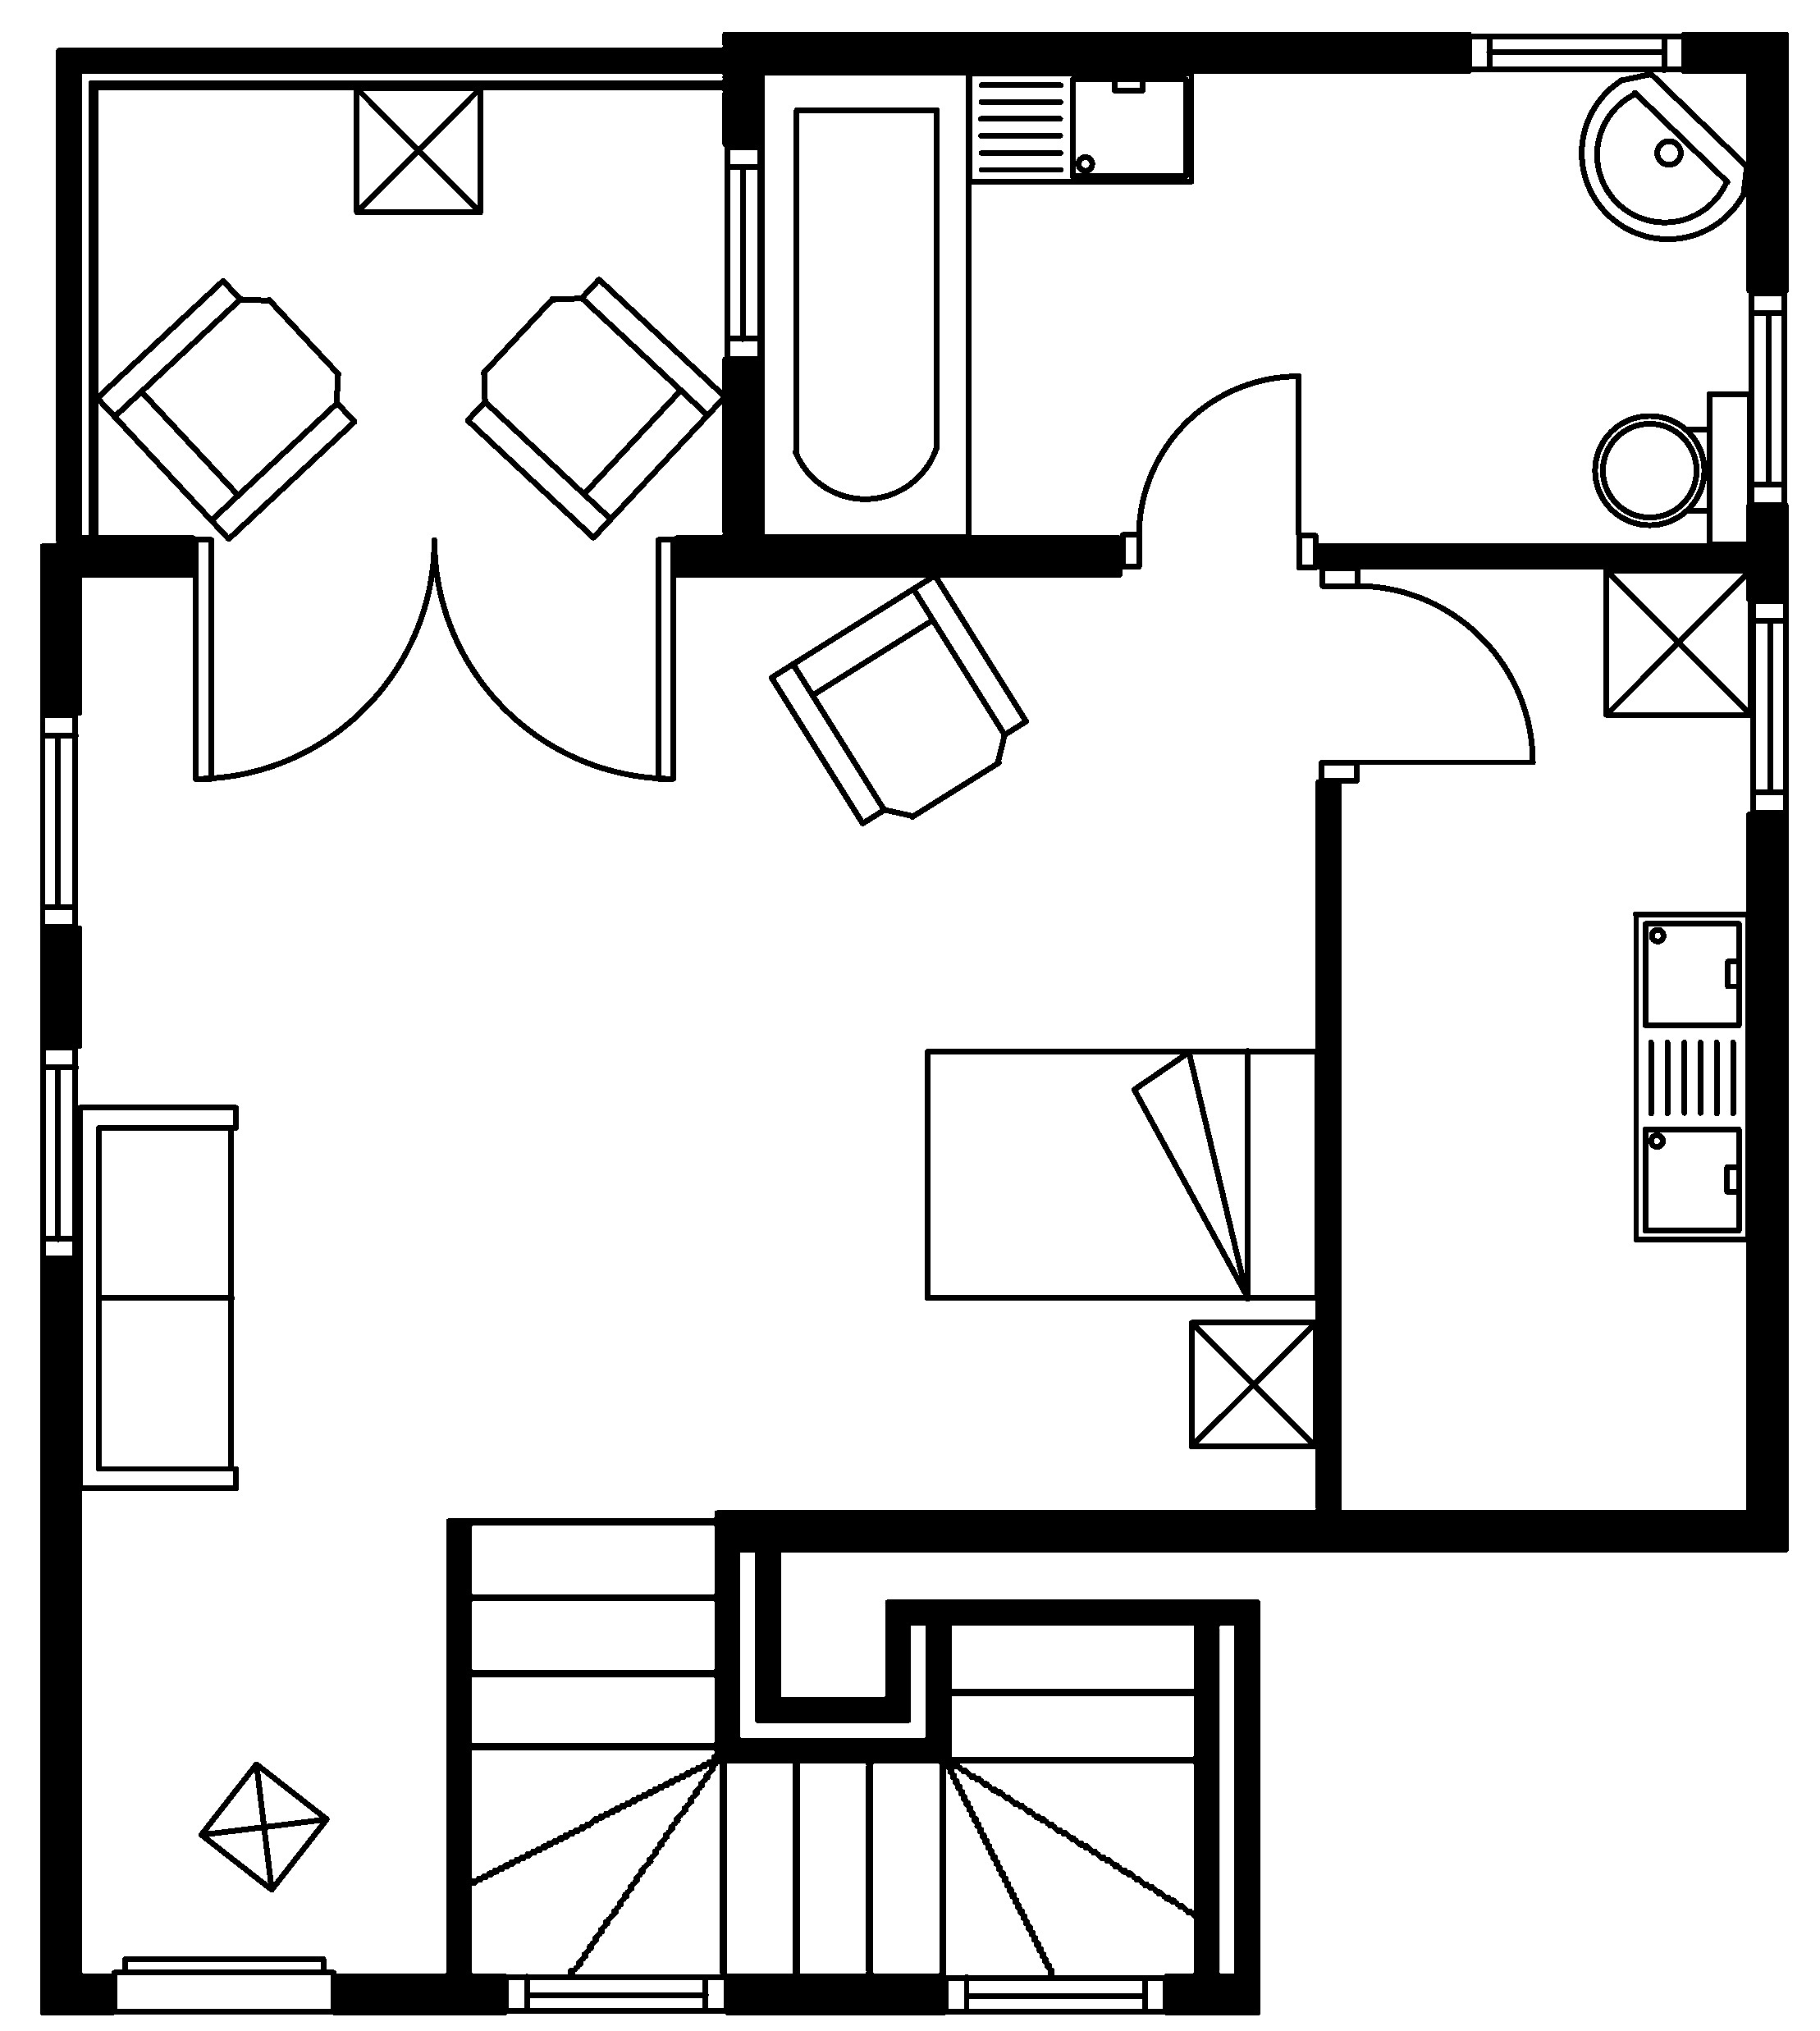armchair: (93, 276, 358, 543), (462, 274, 727, 541), (768, 571, 1029, 826)
bed: (922, 1047, 1321, 1302)
coffee_table: (1602, 566, 1753, 719), (197, 1759, 330, 1894), (1186, 1318, 1319, 1449), (351, 84, 483, 214)
large_sink: (1592, 388, 1753, 548)
large_sofa: (76, 1103, 239, 1492)
sink: (964, 69, 1195, 184)
small_sink: (1578, 70, 1750, 241)
tub: (757, 69, 971, 539)
twin_sink: (1630, 910, 1751, 1244)
